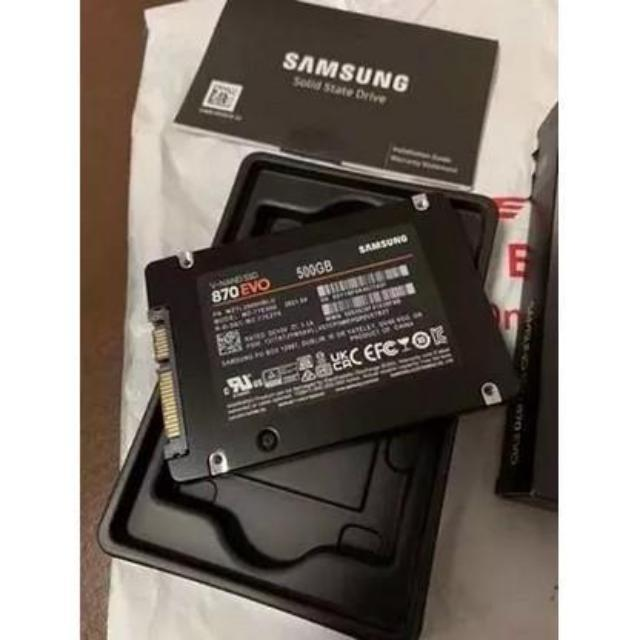DISK: (144, 197, 516, 480)
